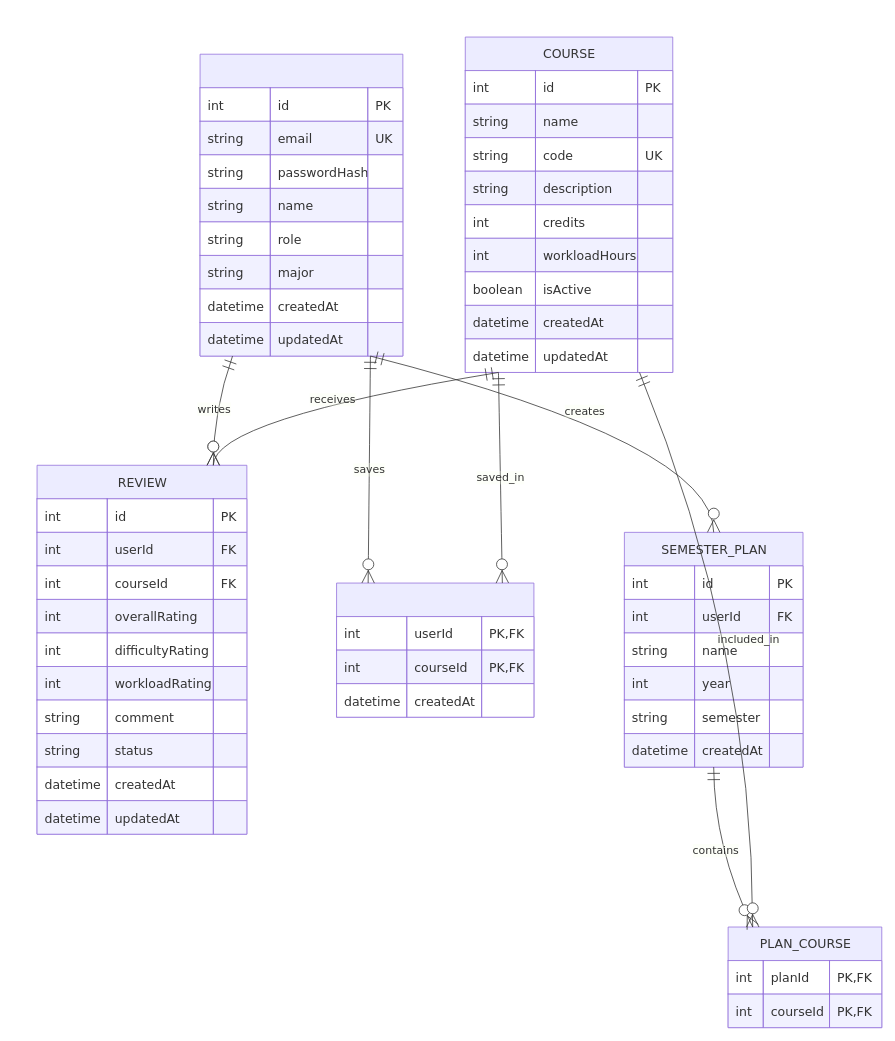
Image size: 895x1041. Some labels were removed from this diagram. The shapes that lost their labels are listed below. From the top down, each one's box as (x1, y1, x2, y2) in pixels, then its label:
(199, 53, 403, 356): USER
(336, 582, 534, 717): SAVED_COURSE
